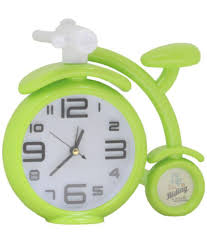alarm_clock: (0, 16, 202, 225), (0, 22, 202, 225), (0, 22, 202, 197), (0, 22, 78, 197), (55, 41, 78, 197), (13, 22, 35, 179), (2, 32, 24, 189)
